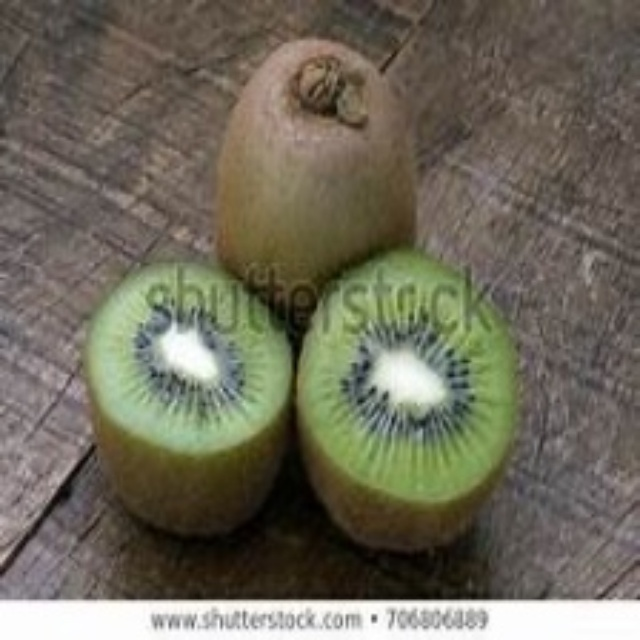kiwi: (203, 36, 435, 309), (300, 260, 514, 555), (73, 260, 289, 539)
